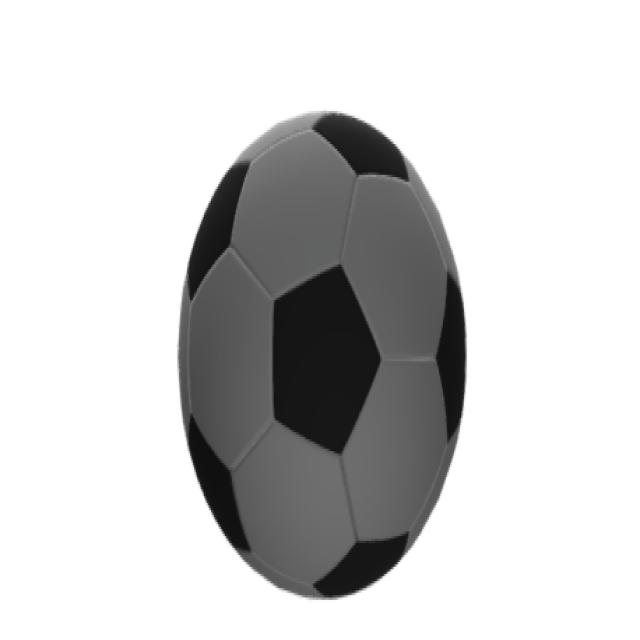ball: (179, 110, 468, 608)
